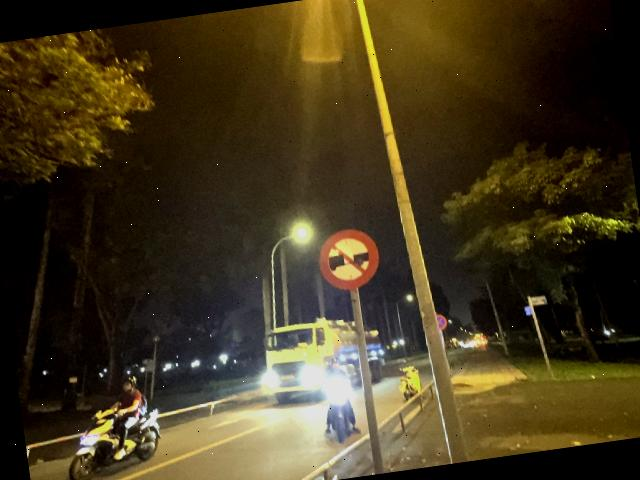cam-xe-somi-romooc: (314, 226, 383, 294)
